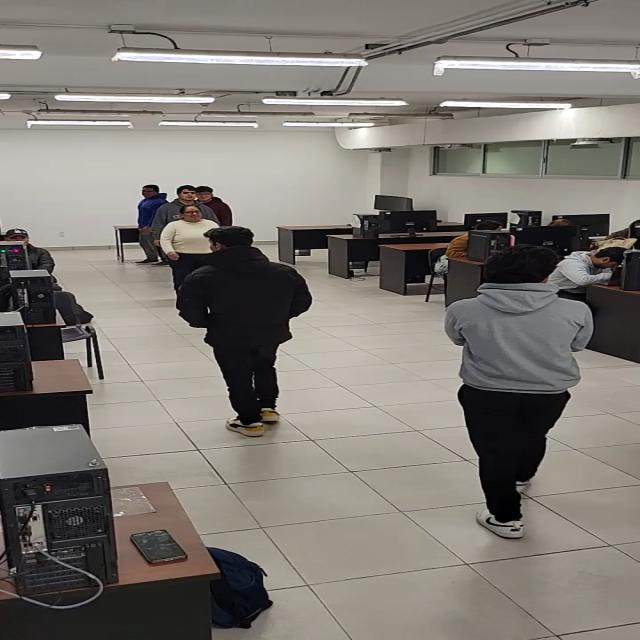Persona: (441, 238, 593, 543), (174, 222, 313, 441), (158, 198, 207, 266)
